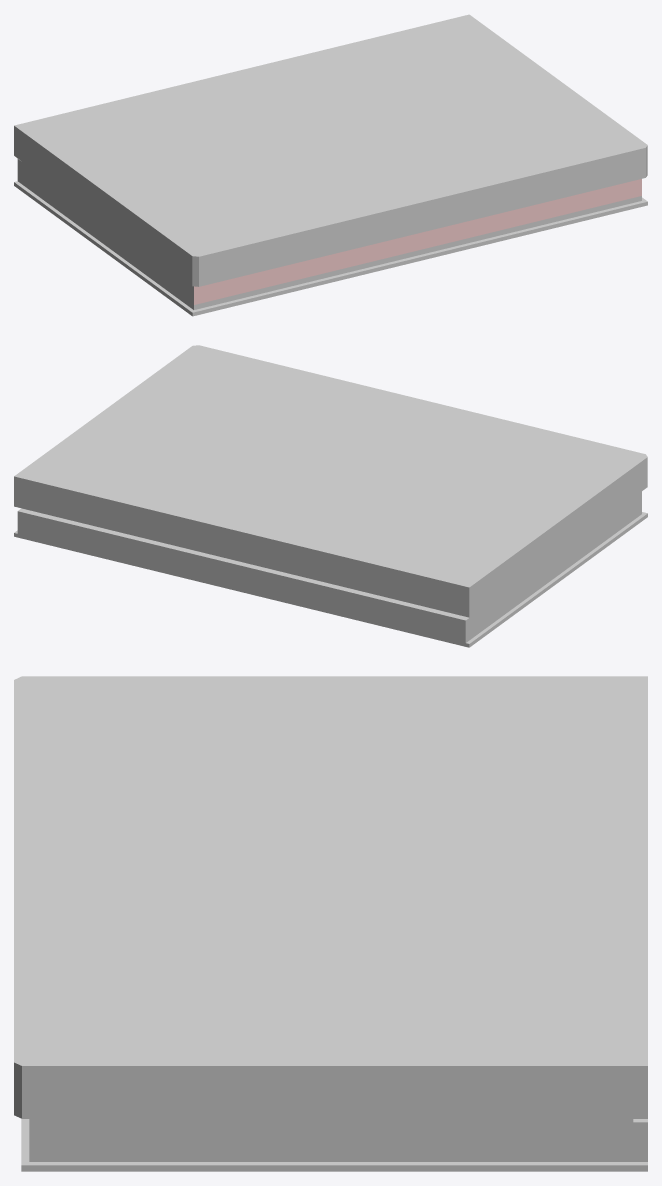
Rendered from Plate_Elisa.fbx.
3 views of the same model, one above another, from view 1: azimuth 30°, elevation 25°; view 2: azimuth 150°, elevation 25°; view 3: azimuth 270°, elevation 25° (orthographic). The views are drawn at different scales.
Parts seen in each view (by area): view 1: Plate_Elisa_Lid, Plate_Elisa_Base; view 2: Plate_Elisa_Lid, Plate_Elisa_Base; view 3: Plate_Elisa_Lid, Plate_Elisa_Base.
Boxes of the visible parts, box(x1,y1,x2,y2) form: Plate_Elisa_Lid: box(14, 14, 647, 286); Plate_Elisa_Base: box(14, 159, 647, 316); Plate_Elisa_Lid: box(14, 345, 647, 617); Plate_Elisa_Base: box(14, 491, 647, 647); Plate_Elisa_Lid: box(14, 676, 647, 1118); Plate_Elisa_Base: box(21, 1118, 647, 1171).
Size of the model in its own units: 11.65 by 1.47 by 8.01.
